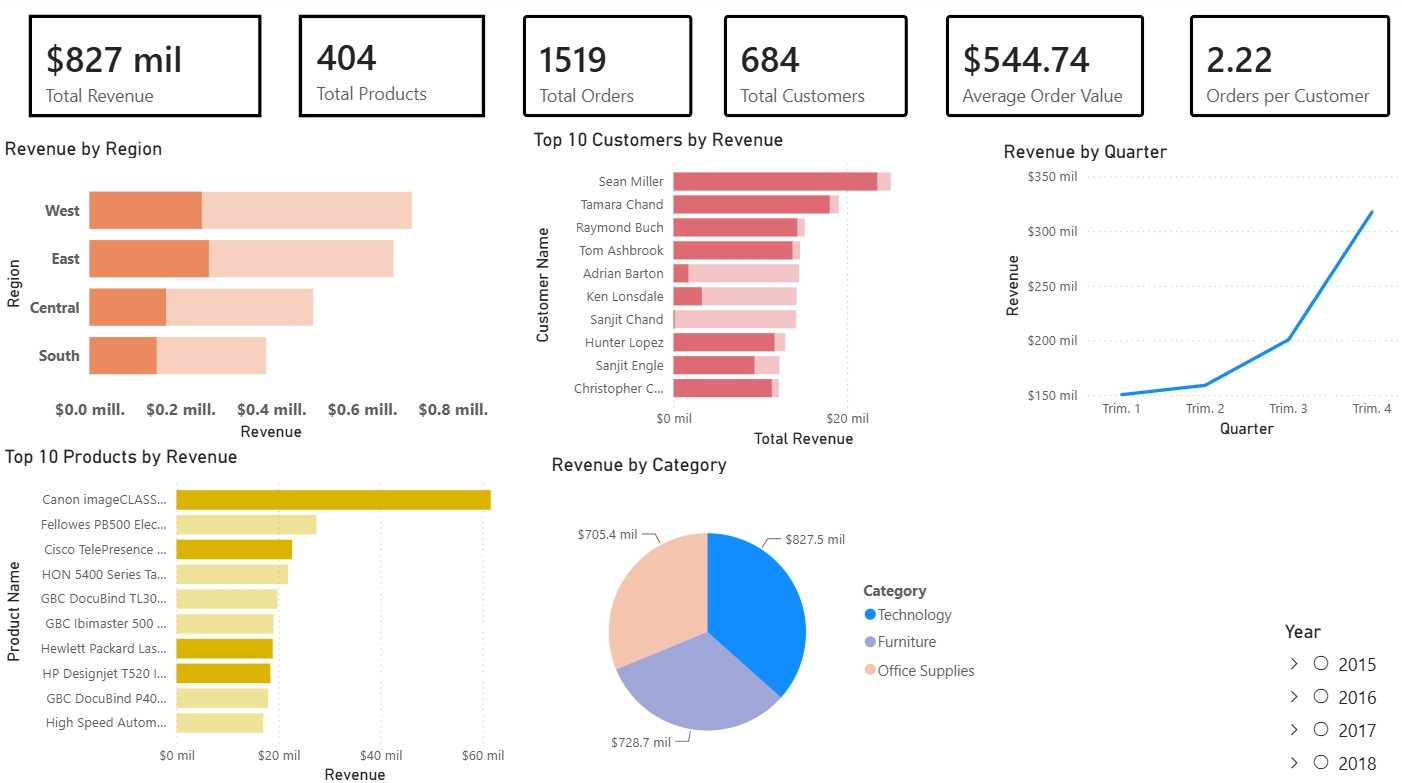

The page's visual inventory and layout, read from the dashboard file:
{"tool":"powerbi","page":{"name":"Página 1","canvas":[1280,720],"ordinal":0},"visuals":[{"type":"cardVisual","fields":{"Data":["train.Total Revenue"]},"box":[9.7,0,245.1,127.4],"z":0},{"type":"cardVisual","fields":{"Data":["train.Total Orders"]},"box":[458.1,0,188.7,127.4],"z":1000},{"type":"cardVisual","fields":{"Data":["train.Total Customers"]},"box":[640,0,201.3,127.4],"z":2000},{"type":"cardVisual","fields":{"Data":["train.Average Order Value"]},"box":[841.3,0,215,127.4],"z":3000},{"type":"cardVisual","fields":{"Data":["train.Orders per Customer"]},"box":[1063.1,0,216.9,127.4],"z":4000},{"type":"barChart","title":" Revenue by Region","fields":{"Category":["train.Region"],"Y":["train.Total Revenue"]},"box":[0,127.4,448.4,280.1],"z":5000},{"type":"lineChart","title":"Revenue by Quarter","fields":{"Category":["train.Order Date.Variación.Jerarquía de fechas.Año","train.Order Date.Variación.Jerarquía de fechas.Trimestre","train.Order Date.Variación.Jerarquía de fechas.Mes","train.Order Date.Variación.Jerarquía de fechas.Día"],"Y":["train.Total Revenue"]},"box":[905.5,130.3,374.5,274.3],"z":6000},{"type":"clusteredBarChart","title":"Top 10 Products by Revenue","fields":{"Category":["train.Product Name"],"Y":["train.Total Revenue"]},"box":[0,407.5,509.7,312.2],"z":7000},{"type":"clusteredBarChart","title":"Top 10 Customers by Revenue","fields":{"Category":["train.Customer Name"],"Y":["train.Total Revenue"]},"box":[479.5,119.6,392.9,294.7],"z":8000},{"type":"pieChart","title":"Revenue by Category","fields":{"Category":["train.Category"],"Y":["train.Total Revenue"]},"box":[496,414.3,402.7,305.4],"z":9000},{"type":"listSlicer","title":"Year","fields":{"Values":["train.Order Date.Variación.Jerarquía de fechas.Año","train.Order Date.Variación.Jerarquía de fechas.Trimestre","train.Order Date.Variación.Jerarquía de fechas.Mes","train.Order Date.Variación.Jerarquía de fechas.Día"]},"box":[1160.4,566.1,119.6,153.7],"z":10000},{"type":"cardVisual","fields":{"Data":["train.Total Products"]},"box":[254.8,0,203.3,127.4],"z":10001}]}

Visuals, with their boxes in screenshot pixels (x1, y1, x2, y2), scaled from the page's 1280x720 canvas onto the 1402x783 screenshot:
cardVisual - train.Total Revenue: {"x1": 11, "y1": 0, "x2": 279, "y2": 139}
cardVisual - train.Total Orders: {"x1": 502, "y1": 0, "x2": 708, "y2": 139}
cardVisual - train.Total Customers: {"x1": 701, "y1": 0, "x2": 921, "y2": 139}
cardVisual - train.Average Order Value: {"x1": 921, "y1": 0, "x2": 1157, "y2": 139}
cardVisual - train.Orders per Customer: {"x1": 1164, "y1": 0, "x2": 1401, "y2": 139}
" Revenue by Region" barChart: {"x1": 0, "y1": 139, "x2": 491, "y2": 443}
"Revenue by Quarter" lineChart: {"x1": 992, "y1": 142, "x2": 1401, "y2": 440}
"Top 10 Products by Revenue" clusteredBarChart: {"x1": 0, "y1": 443, "x2": 558, "y2": 782}
"Top 10 Customers by Revenue" clusteredBarChart: {"x1": 525, "y1": 130, "x2": 956, "y2": 451}
"Revenue by Category" pieChart: {"x1": 543, "y1": 451, "x2": 984, "y2": 782}
"Year" listSlicer: {"x1": 1271, "y1": 616, "x2": 1401, "y2": 782}
cardVisual - train.Total Products: {"x1": 279, "y1": 0, "x2": 502, "y2": 139}
